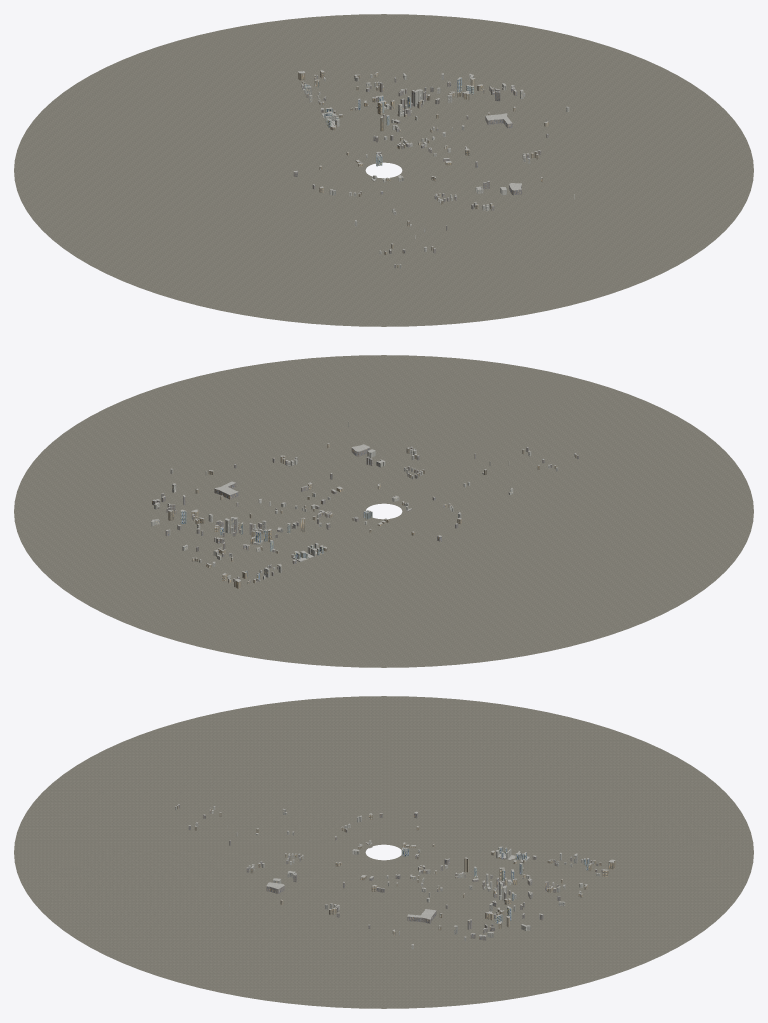
The model's file is far.glb.
The picture shows the model from 3 angles, top to bottom: view 1: azimuth 30°, elevation 25°; view 2: azimuth 150°, elevation 25°; view 3: azimuth 270°, elevation 25°; orthographic projection.
Parts seen in each view (by area): view 1: far_ground, far_roof, far_band, far_plaster, far_stone, far_glass; view 2: far_ground, far_plaster, far_roof, far_band, far_stone, far_glass; view 3: far_ground, far_roof, far_plaster, far_band, far_stone, far_glass.
Boxes of the visible parts, <box> form: far_ground: <box>14,14,753,326</box>; far_roof: <box>293,70,574,264</box>; far_band: <box>293,74,548,268</box>; far_plaster: <box>301,74,574,268</box>; far_stone: <box>298,71,548,267</box>; far_glass: <box>304,78,473,166</box>; far_ground: <box>14,355,753,667</box>; far_plaster: <box>151,422,576,582</box>; far_roof: <box>151,443,578,581</box>; far_band: <box>152,447,578,582</box>; far_stone: <box>168,444,577,588</box>; far_glass: <box>180,511,372,579</box>; far_ground: <box>14,696,753,1008</box>; far_roof: <box>175,804,615,945</box>; far_plaster: <box>175,806,600,949</box>; far_band: <box>178,805,602,940</box>; far_stone: <box>177,806,615,935</box>; far_glass: <box>401,847,589,923</box>.
Size of the model in its own units: 8000 by 217 by 8000.
Materials: 6 (6 with a texture image).
